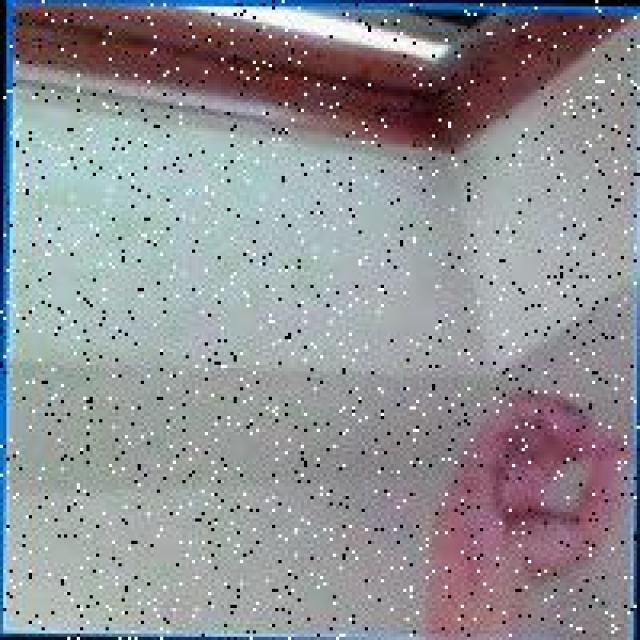O: (430, 381, 632, 592)
